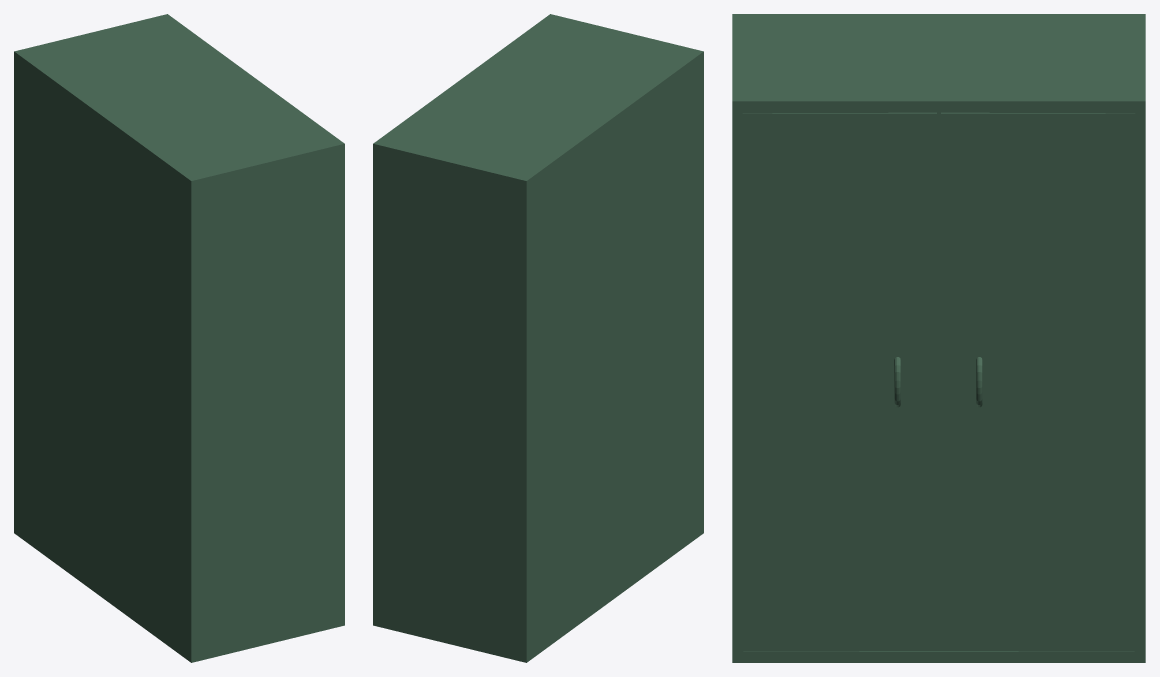
File: file cabinet.fbx
3 views of the same model, side by side, from view 1: azimuth 30°, elevation 25°; view 2: azimuth 150°, elevation 25°; view 3: azimuth 270°, elevation 25° (orthographic). The views are drawn at different scales.
Visible parts, largest first — view 1: Cube.061; view 2: Cube.061; view 3: Cube.061.
Part boxes in pixels (box(x1,y1,x2,y2)): Cube.061: box(14, 14, 344, 662); Cube.061: box(373, 14, 703, 662); Cube.061: box(732, 14, 1145, 662).
Bounding box in the file's own units: 107 × 300 × 200.
